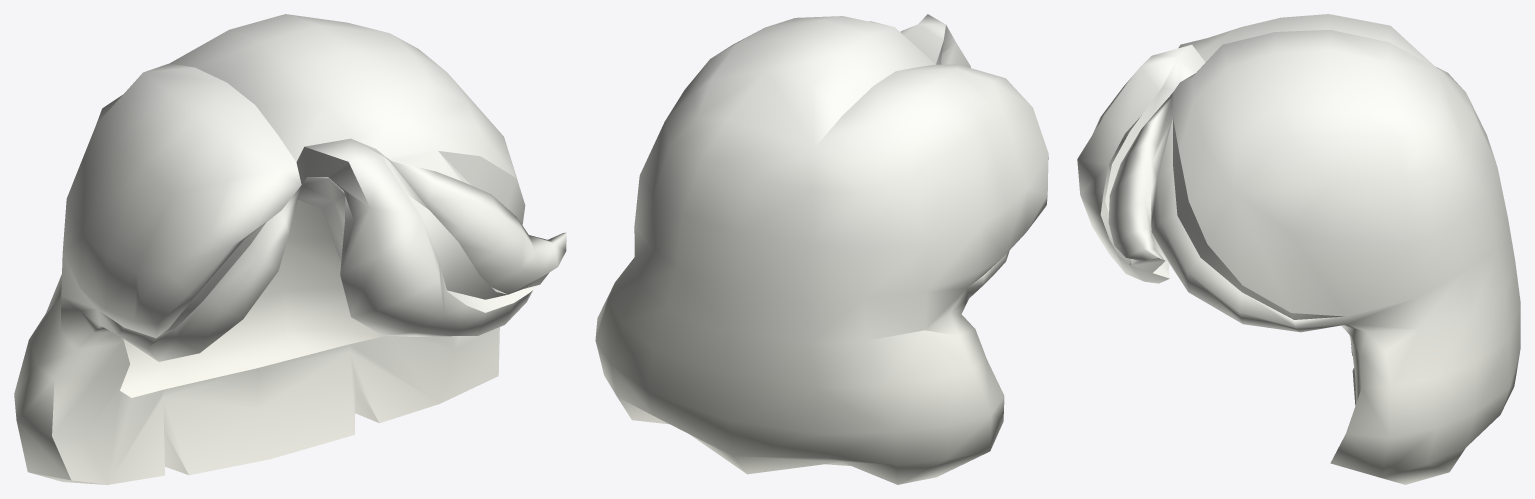
The model's file is Hair_White_7.fbx.
3 views of the same model, side by side, from view 1: azimuth 30°, elevation 25°; view 2: azimuth 150°, elevation 25°; view 3: azimuth 270°, elevation 25° (orthographic). The views are drawn at different scales.
Parts seen in each view (by area): view 1: Hair_White_7; view 2: Hair_White_7; view 3: Hair_White_7.
Boxes of the visible parts, <box> form: Hair_White_7: <box>14,14,566,484</box>; Hair_White_7: <box>595,14,1048,484</box>; Hair_White_7: <box>1077,14,1520,484</box>.
Bounding box in the file's own units: 67.35 × 62.65 × 64.72.
